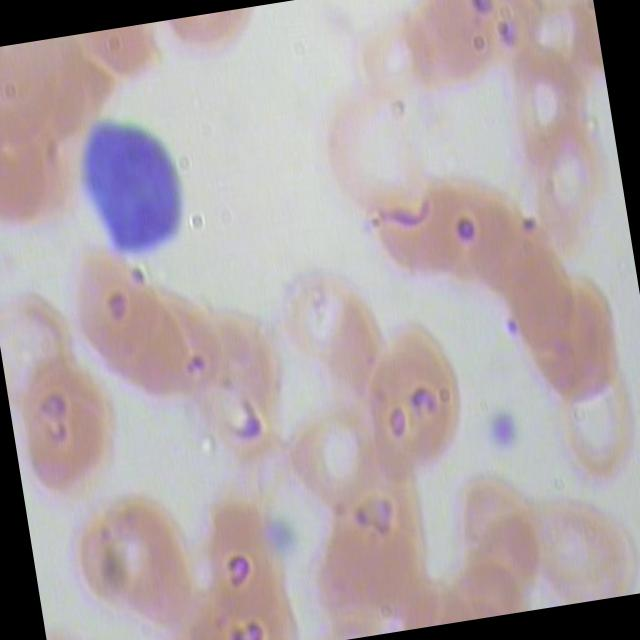Platelets: (483, 404, 525, 461), (264, 512, 306, 569)
RBC: (348, 306, 480, 486), (5, 342, 123, 518), (100, 479, 218, 640), (516, 271, 636, 419), (354, 166, 470, 318), (272, 247, 387, 398), (102, 280, 214, 419), (59, 236, 170, 375), (152, 290, 263, 429), (438, 464, 548, 604), (14, 31, 124, 170), (190, 483, 300, 622), (449, 174, 548, 319), (424, 166, 523, 311), (488, 208, 586, 354), (522, 115, 622, 258), (504, 49, 604, 192), (282, 399, 390, 522), (62, 506, 170, 628), (0, 281, 89, 416), (557, 357, 640, 500), (341, 12, 454, 115), (0, 111, 77, 250), (396, 0, 509, 92), (0, 40, 66, 179)
WBC: (72, 90, 214, 270)
